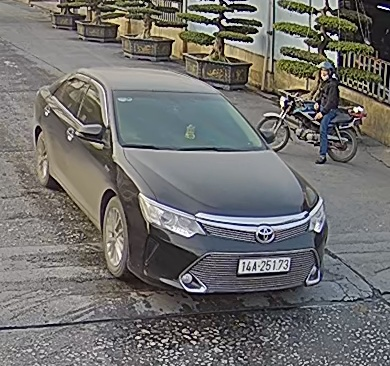vehicle plate: (235, 255, 294, 274)
